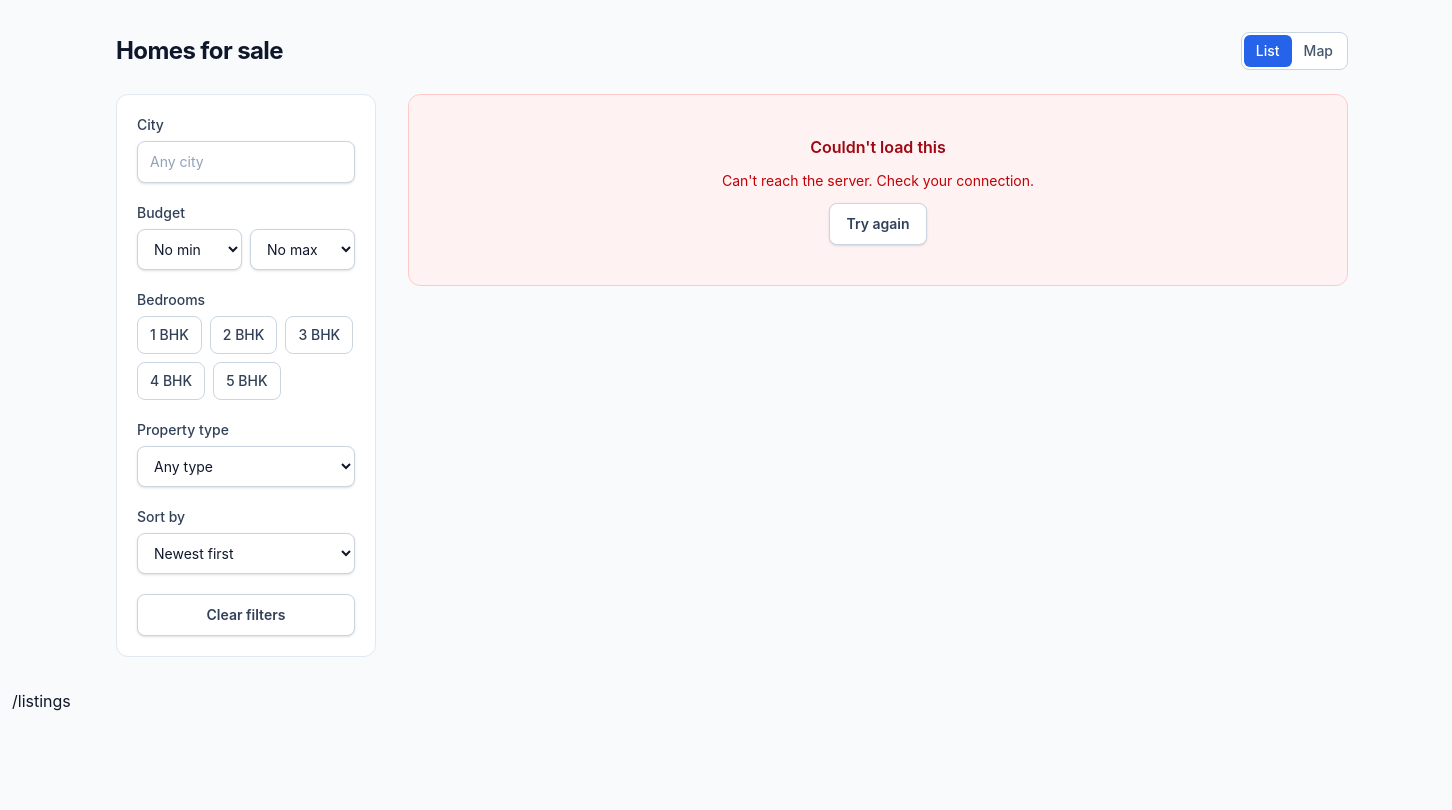
Scenario: <ListingsPage> URL sync › shows an error state with retry
Expected: the text "Can't reach the server. Check your connection." is shown, x1=722 y1=171 x2=1034 y2=191
Click the button "Try again" at x=878, y=224, box x1=830 y1=203 x2=927 y2=245
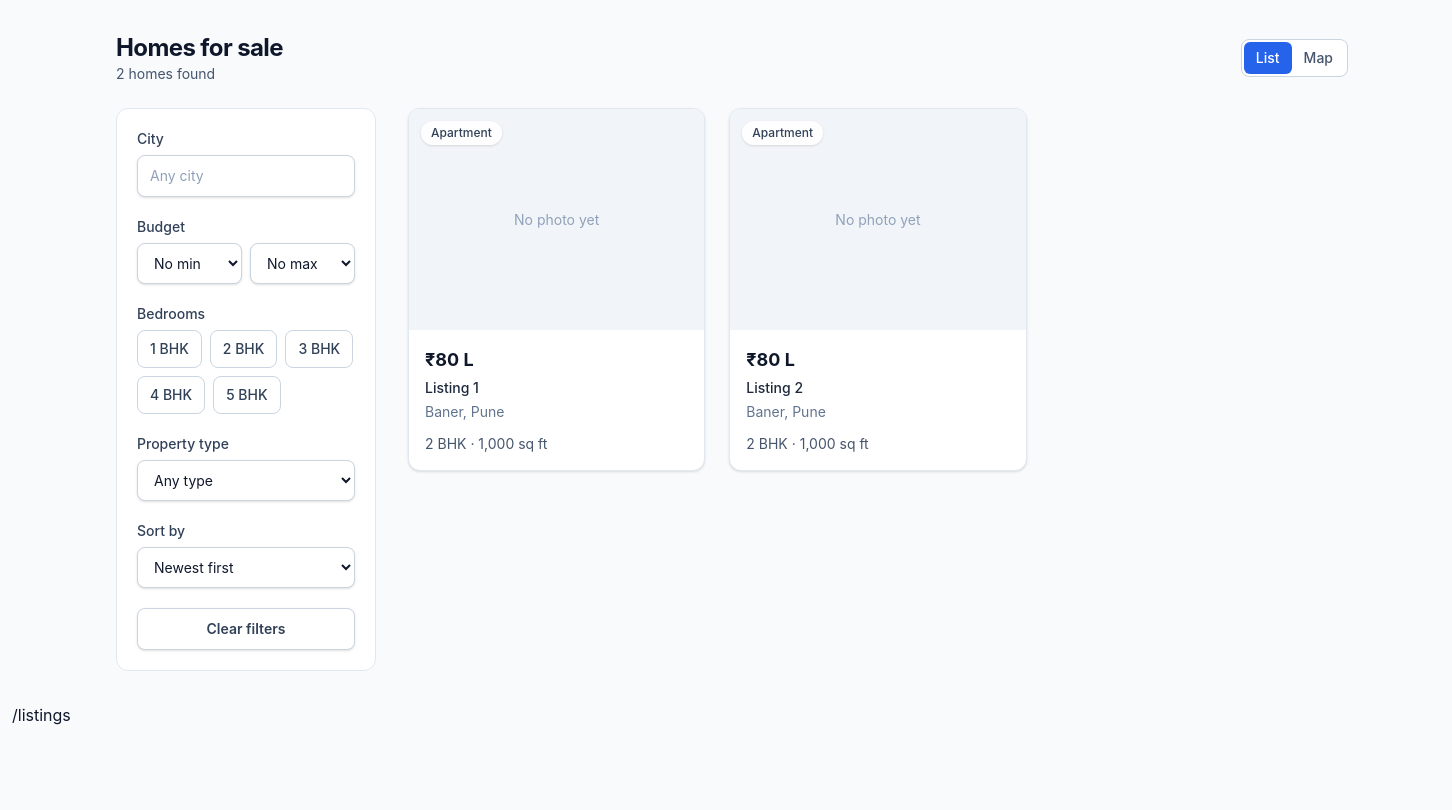
Expected: the heading "Listing 1" is shown, x1=425 y1=380 x2=479 y2=396
